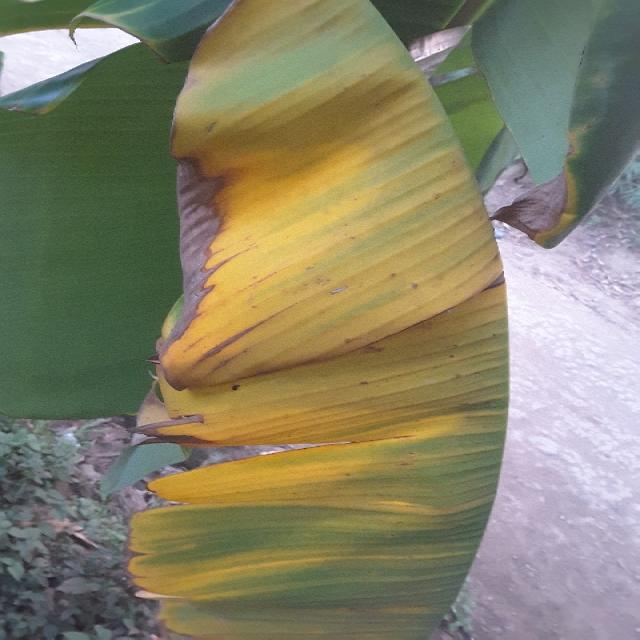Cordana: (133, 0, 517, 640), (522, 99, 634, 276), (18, 0, 130, 40)
